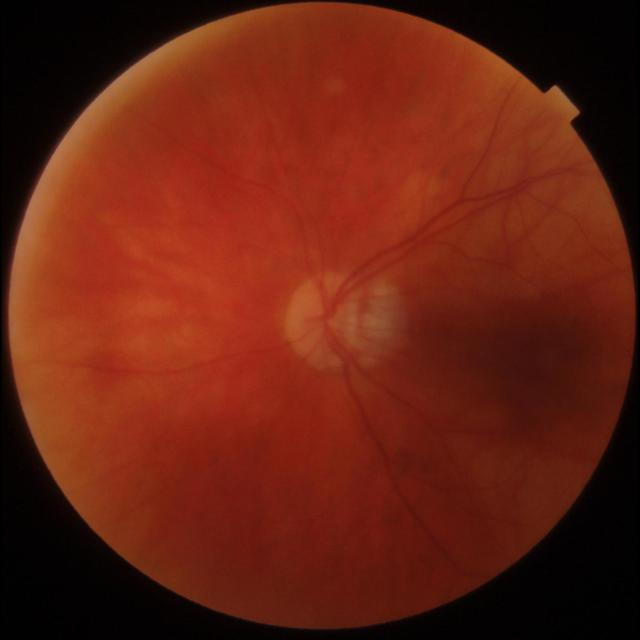OC: (314, 305, 345, 340)
OD: (284, 274, 378, 367)
